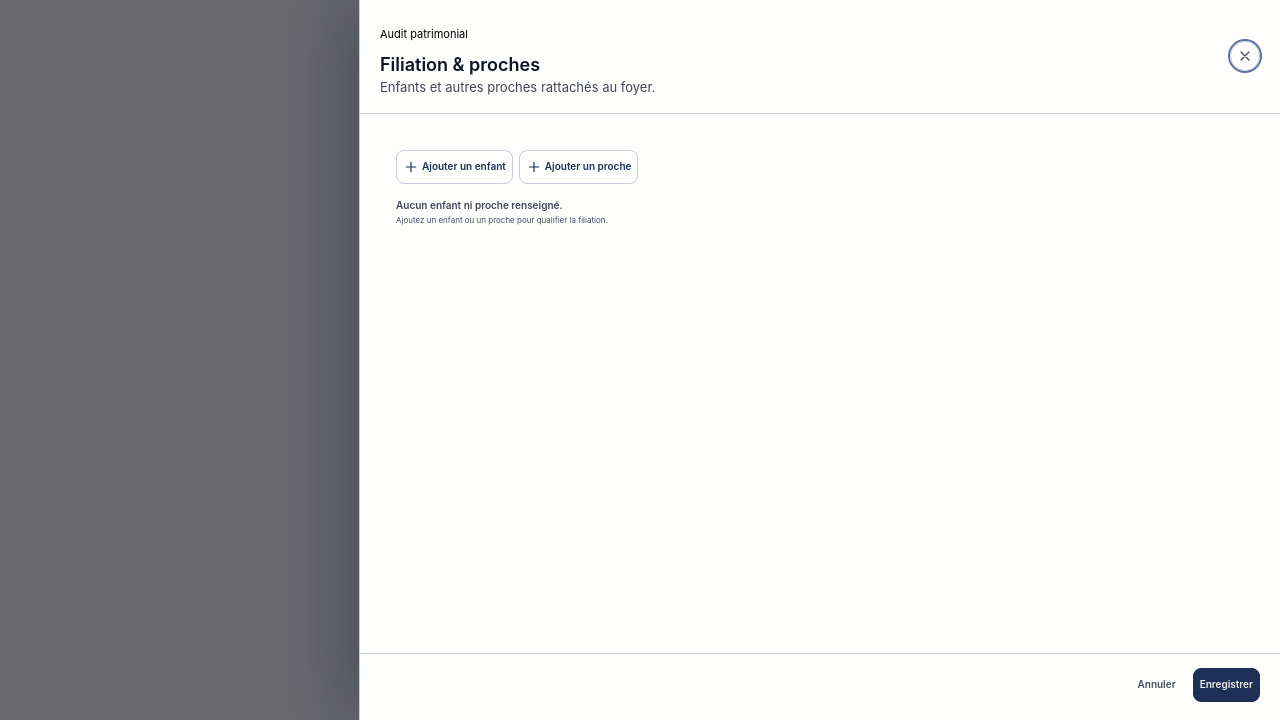
FiliationDrawer › révèle la portée de renonciation uniquement quand l’enfant y renonce
The width and height of the screenshot is (1280, 720).
What coordinates should you click on to do the following:
click the button "Ajouter un enfant"
I would click on:
 (454, 167)
Its box is [396,150,513,184].
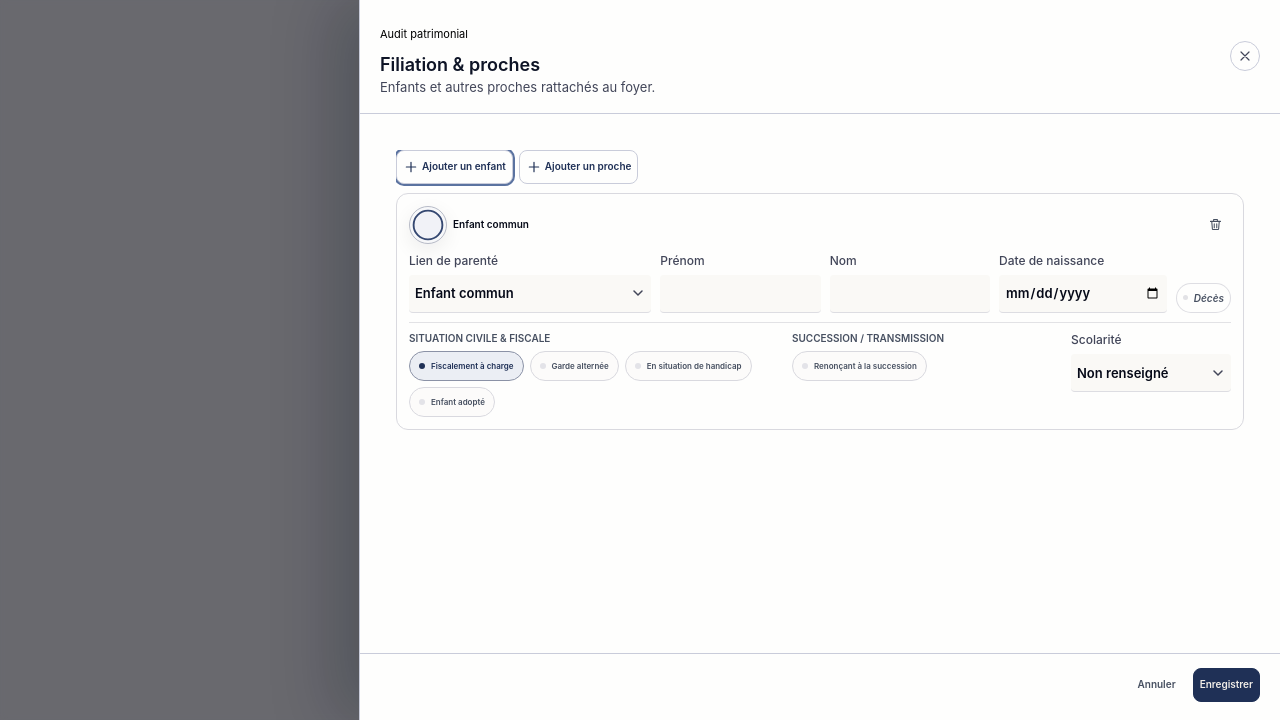
expect the button "Des deux parents" is not shown: met
What coordinates should you click on to do the following:
click the button "Renonçant à la succession"
I would click on:
 (859, 366)
Its box is [792,351,927,381].
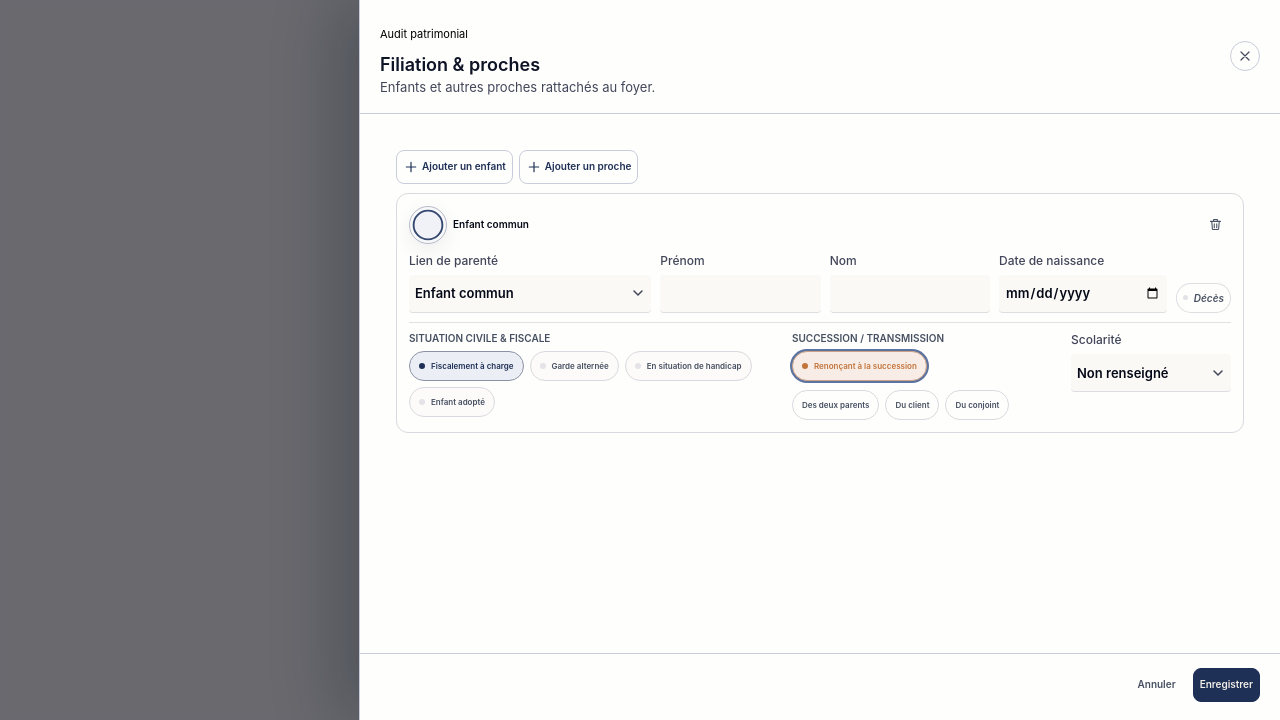
expect the button "Des deux parents" is shown: met, box [792,390,879,420]
expect the button "Du client" is shown: met, box [886,390,940,420]
expect the button "Du conjoint" is shown: met, box [946,390,1009,420]
